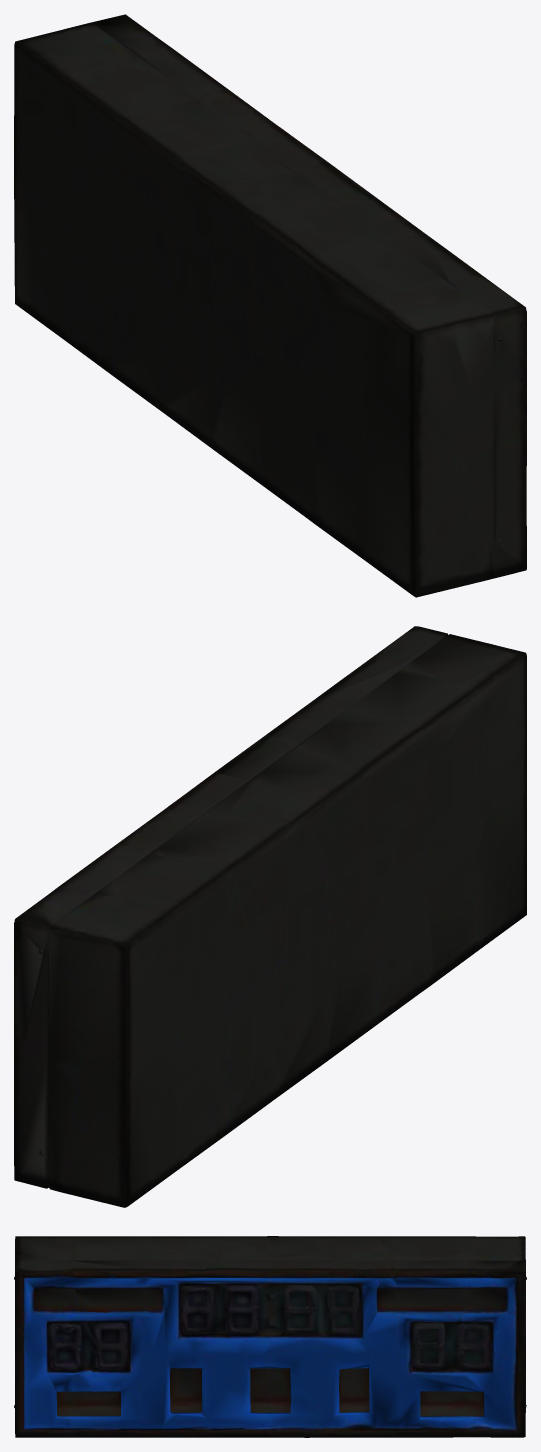
File: marcador.glb
The picture shows the model from 3 angles, top to bottom: view 1: azimuth 30°, elevation 25°; view 2: azimuth 150°, elevation 25°; view 3: azimuth 270°, elevation 25°; orthographic projection. The views are drawn at different scales.
Parts seen in each view (by area): view 1: tripo_node_0a65be3f-aaf9-4bea-9117-a98c69827efd; view 2: tripo_node_0a65be3f-aaf9-4bea-9117-a98c69827efd; view 3: tripo_node_0a65be3f-aaf9-4bea-9117-a98c69827efd.
Part boxes in pixels (x1=…): tripo_node_0a65be3f-aaf9-4bea-9117-a98c69827efd: x1=14, y1=14, x2=526, y2=597; tripo_node_0a65be3f-aaf9-4bea-9117-a98c69827efd: x1=14, y1=626, x2=526, y2=1207; tripo_node_0a65be3f-aaf9-4bea-9117-a98c69827efd: x1=14, y1=1236, x2=526, y2=1437.
Size of the model in its own units: 0.1359 by 0.3 by 0.8317.
1 material, 1 textured.
